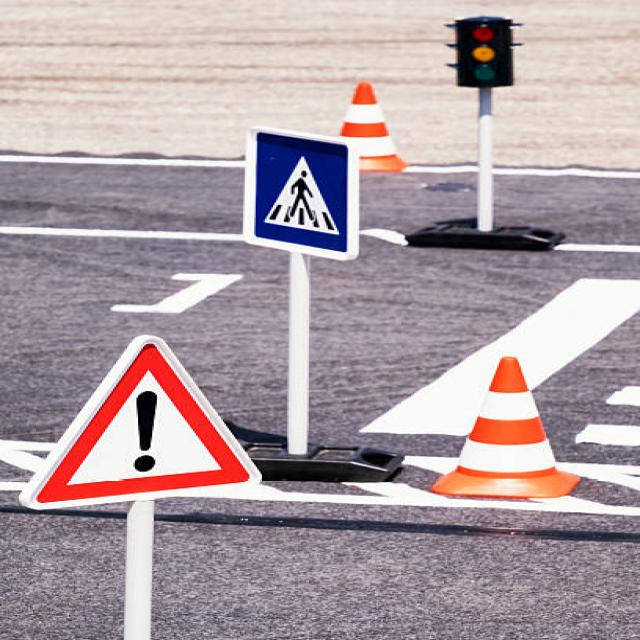Traffic Cone: (413, 345, 609, 535)
